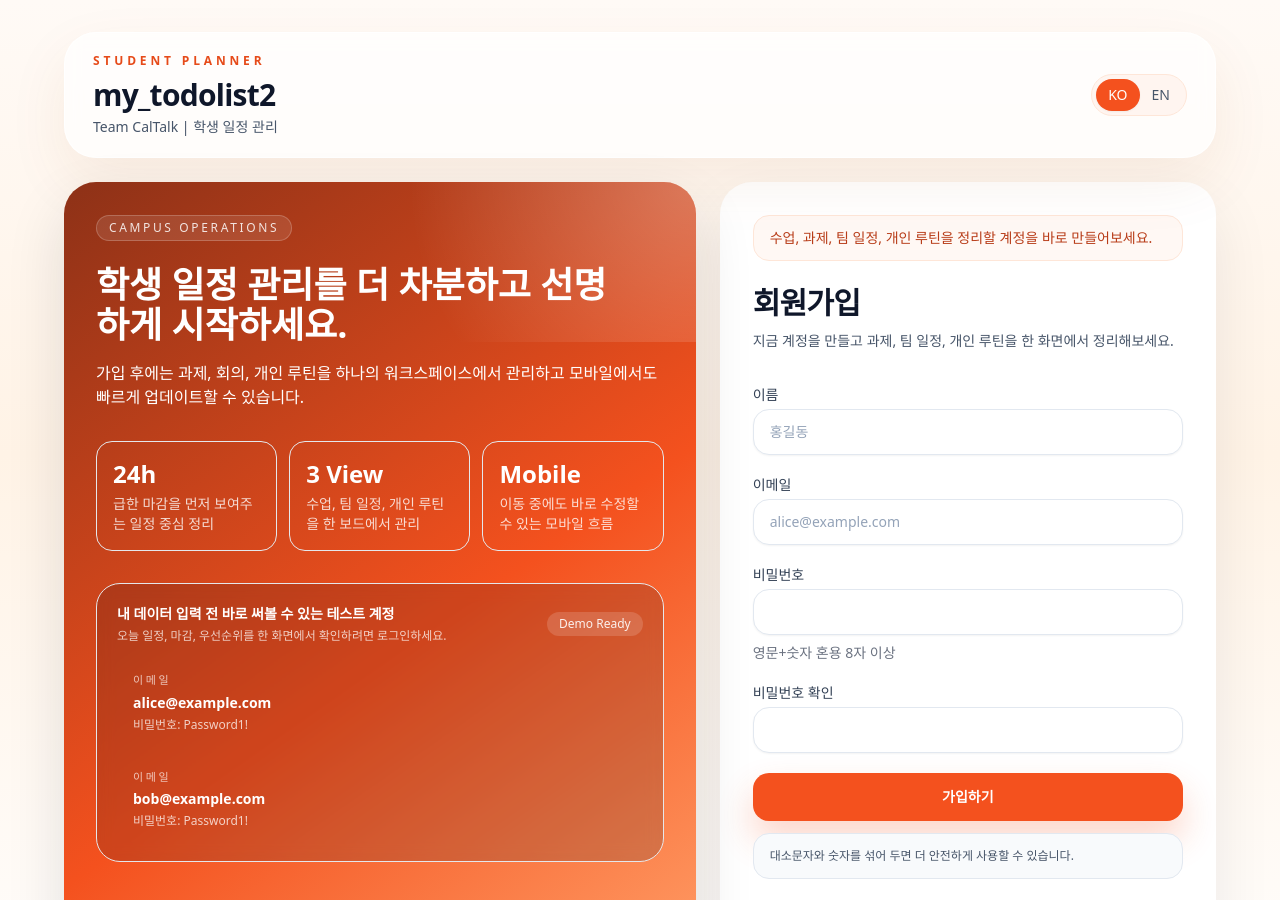
SignupPage › 비밀번호 확인이 일치하지 않으면 블러 시 에러가 표시된다
Type "Pass1234!" into the password field labelled "비밀번호" at {"x": 968, "y": 612}, box [753,589,1183,635]
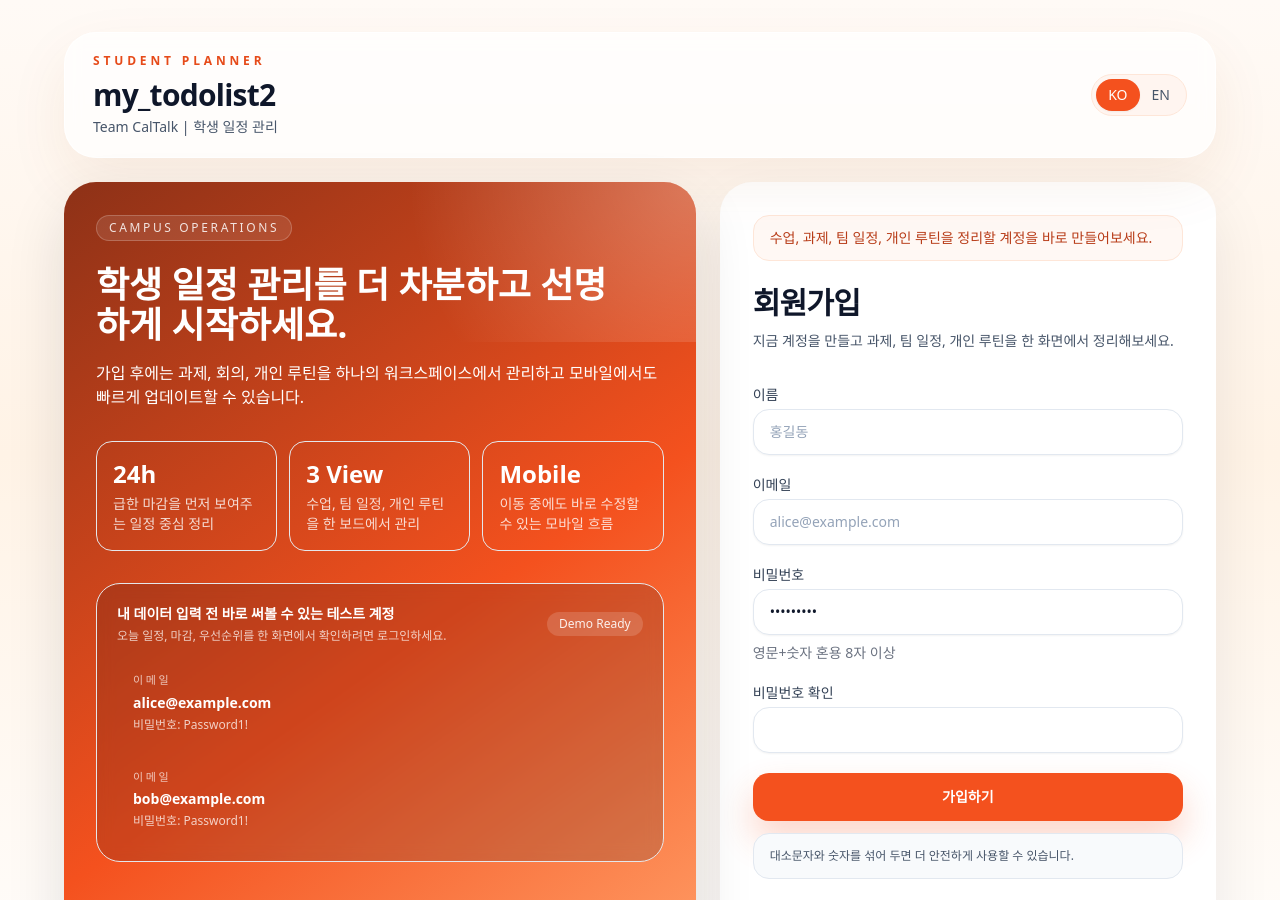
Type "Different1!" into the password field labelled "비밀번호 확인" at {"x": 968, "y": 730}, box [753,707,1183,753]
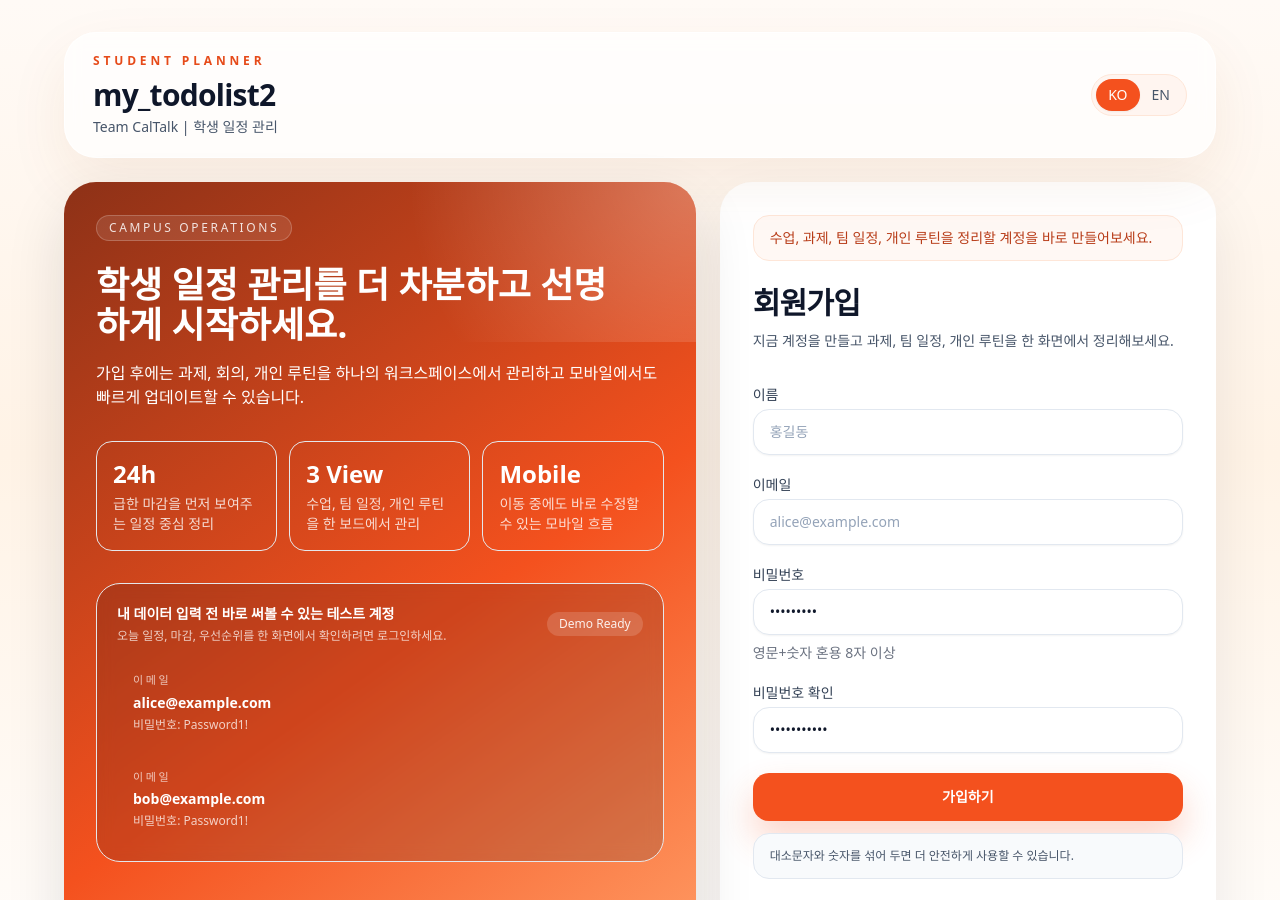
Leave the password field labelled "비밀번호 확인", box [753,707,1183,753]
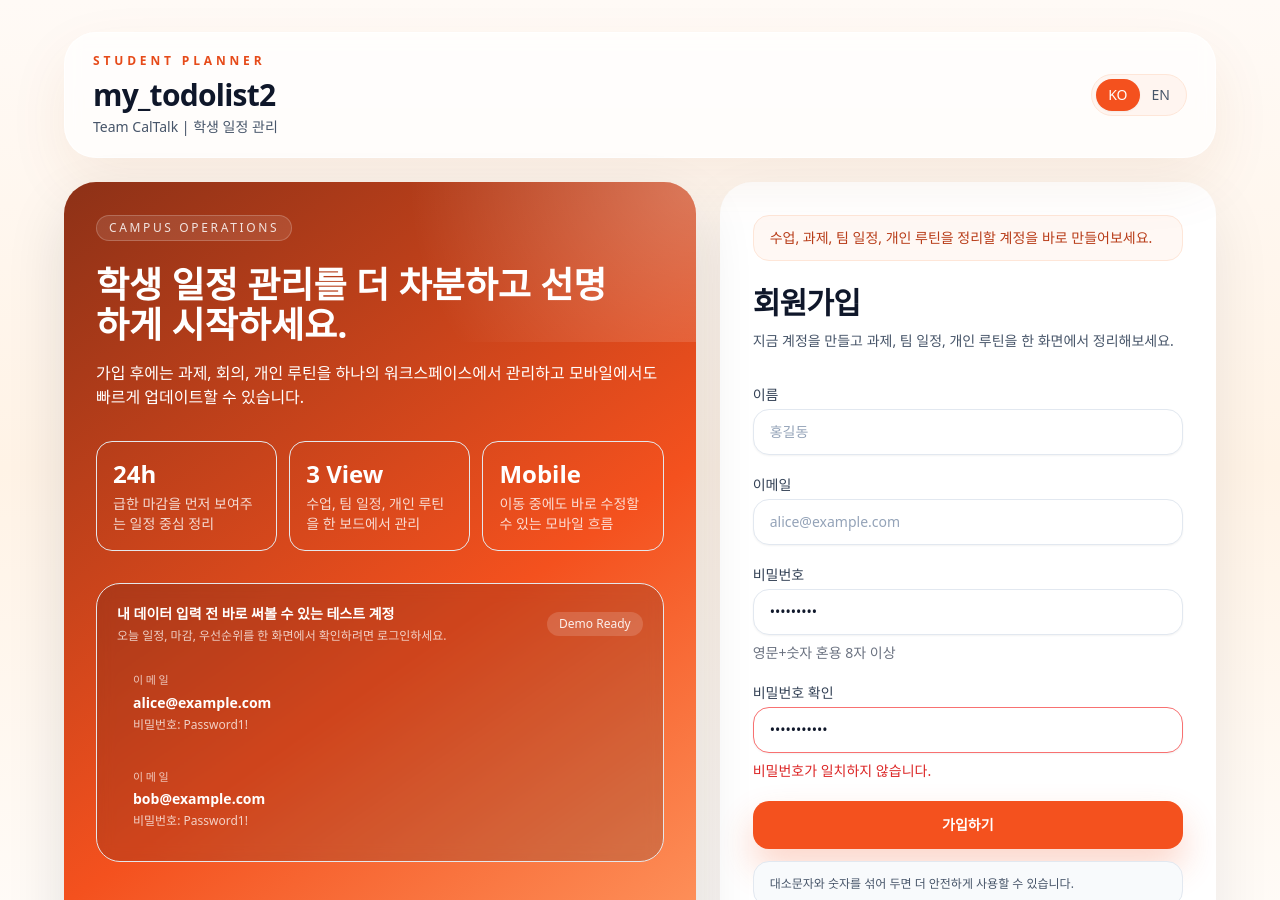
Expected: the text "비밀번호가 일치하지 않습니다." is shown, [753,761,931,780]
